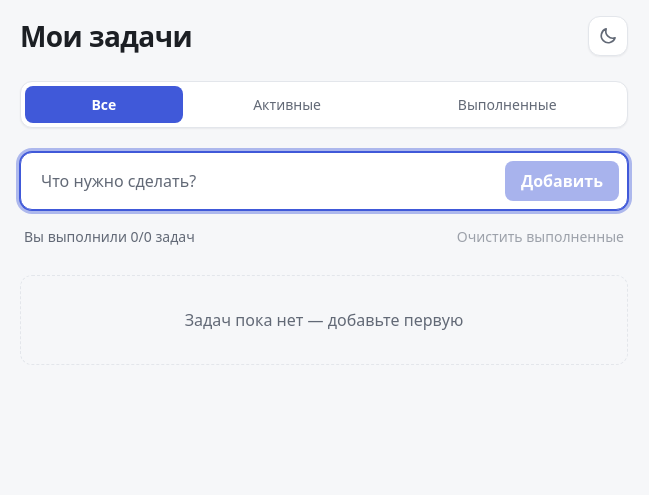
Scenario: App: summary › clears completed tasks and keeps active ones
The image size is (649, 495).
Type "Оставить" into the field named "Новая задача" at (263,181), box x1=29 y1=159 x2=497 y2=203
Then press Enter
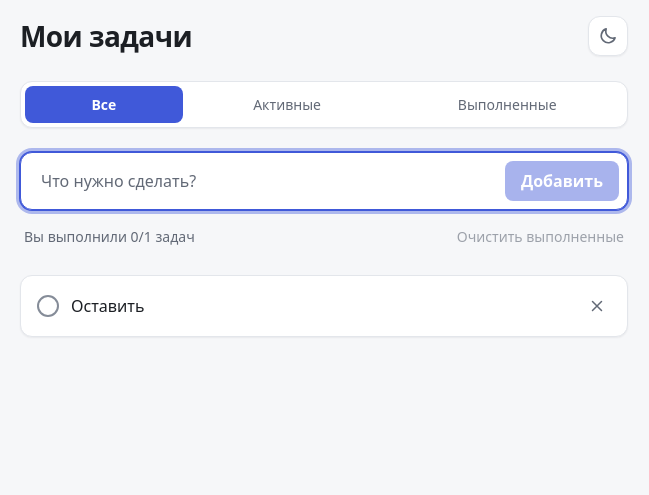
Type "Убрать 1" into the field named "Новая задача" at (263,181), box x1=29 y1=159 x2=497 y2=203
Then press Enter
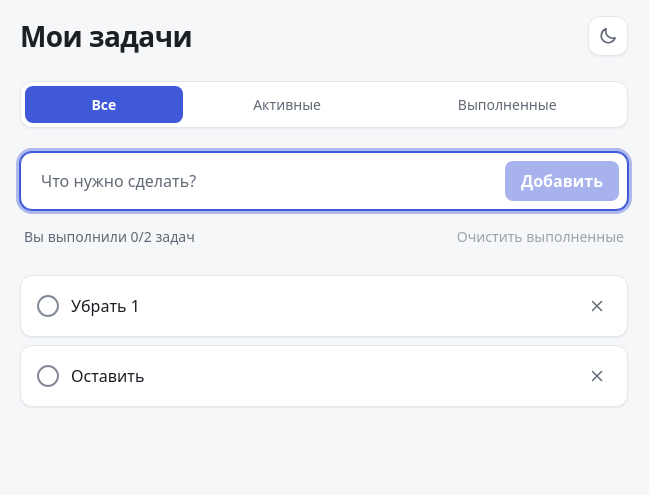
Type "Убрать 2" into the field named "Новая задача" at (263,181), box x1=29 y1=159 x2=497 y2=203
Then press Enter
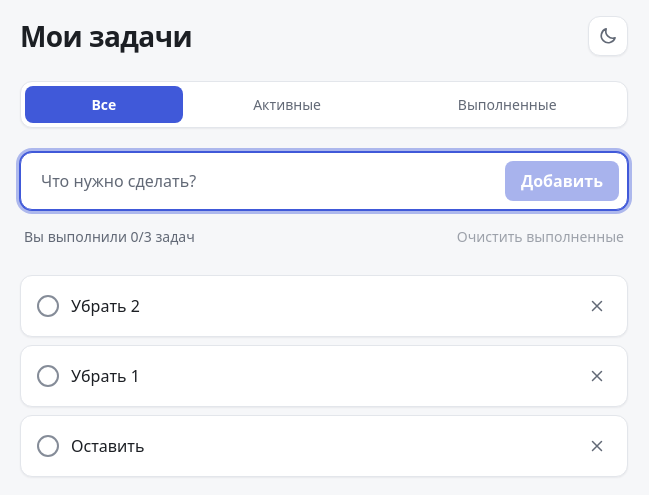
Click the checkbox labelled "Убрать 1" at (48,376), box x1=37 y1=365 x2=59 y2=387
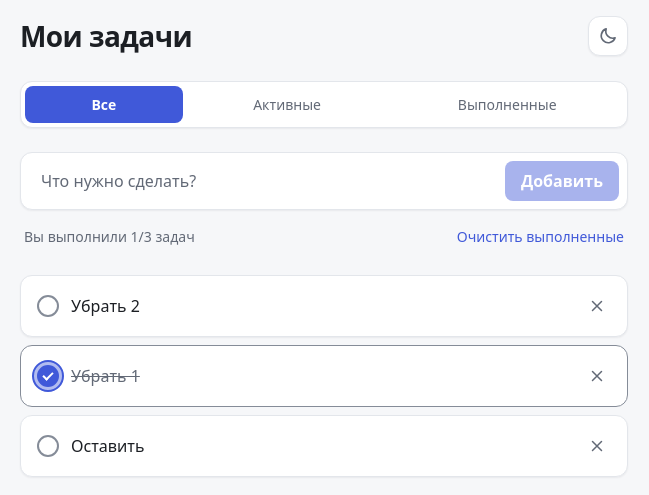
Click the checkbox labelled "Убрать 2" at (48,306), box x1=37 y1=295 x2=59 y2=317
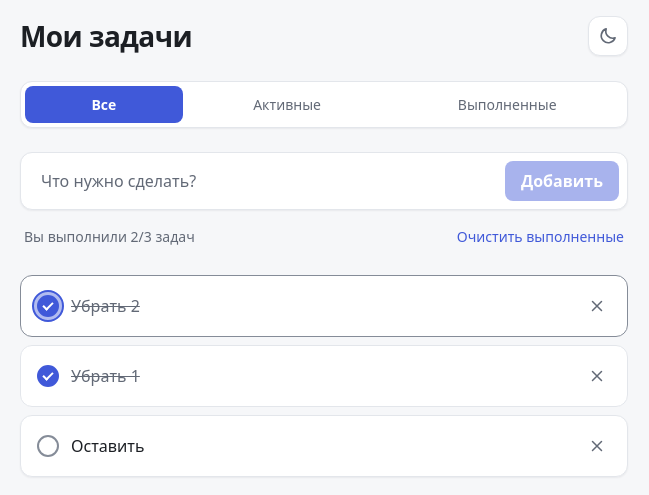
Click the button "Очистить выполненные" at (540,236), box x1=451 y1=222 x2=630 y2=251
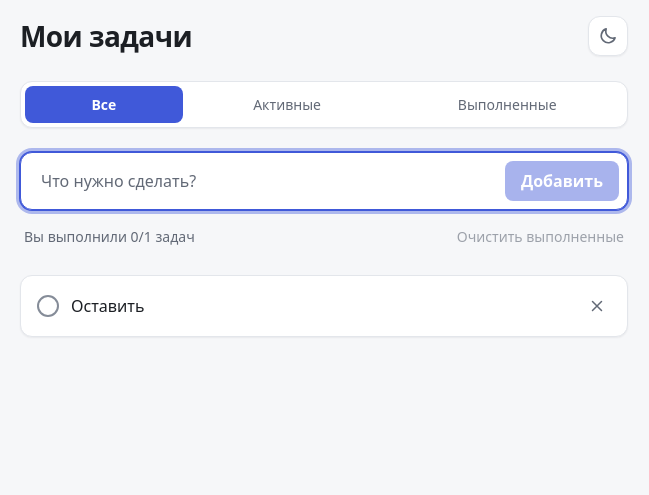
Now the text "Вы выполнили 0/1 задач" is shown, box x1=24 y1=226 x2=195 y2=247
Now the button "Очистить выполненные" is disabled, box x1=451 y1=222 x2=630 y2=251
